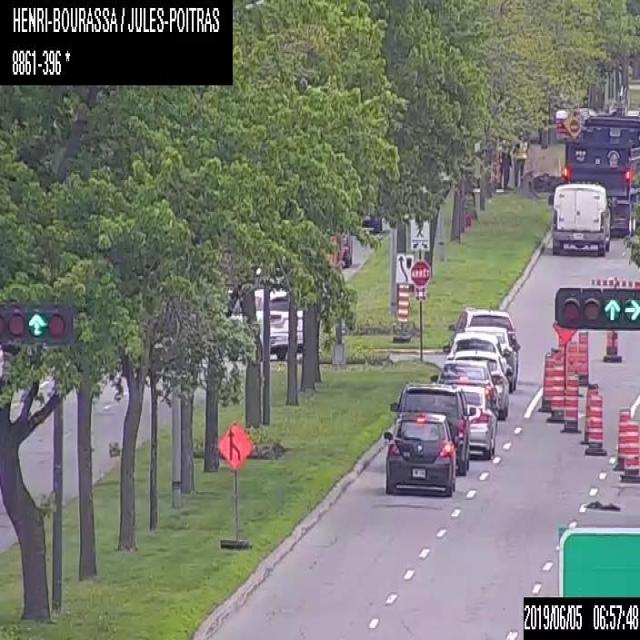construction: (215, 420, 252, 548), (552, 318, 582, 396), (585, 395, 606, 455), (618, 422, 639, 480), (613, 406, 632, 469), (560, 374, 580, 432), (546, 358, 564, 421), (580, 383, 598, 444), (537, 353, 552, 411), (576, 329, 589, 384), (602, 329, 621, 363), (565, 339, 576, 374)
vehicle: (563, 115, 639, 236), (389, 382, 476, 476), (224, 283, 303, 360), (383, 411, 456, 492), (448, 308, 519, 389), (439, 380, 495, 459), (549, 182, 610, 253), (428, 359, 497, 414), (453, 350, 507, 419), (465, 325, 513, 391), (442, 332, 506, 372), (339, 228, 351, 267), (361, 211, 382, 233)
